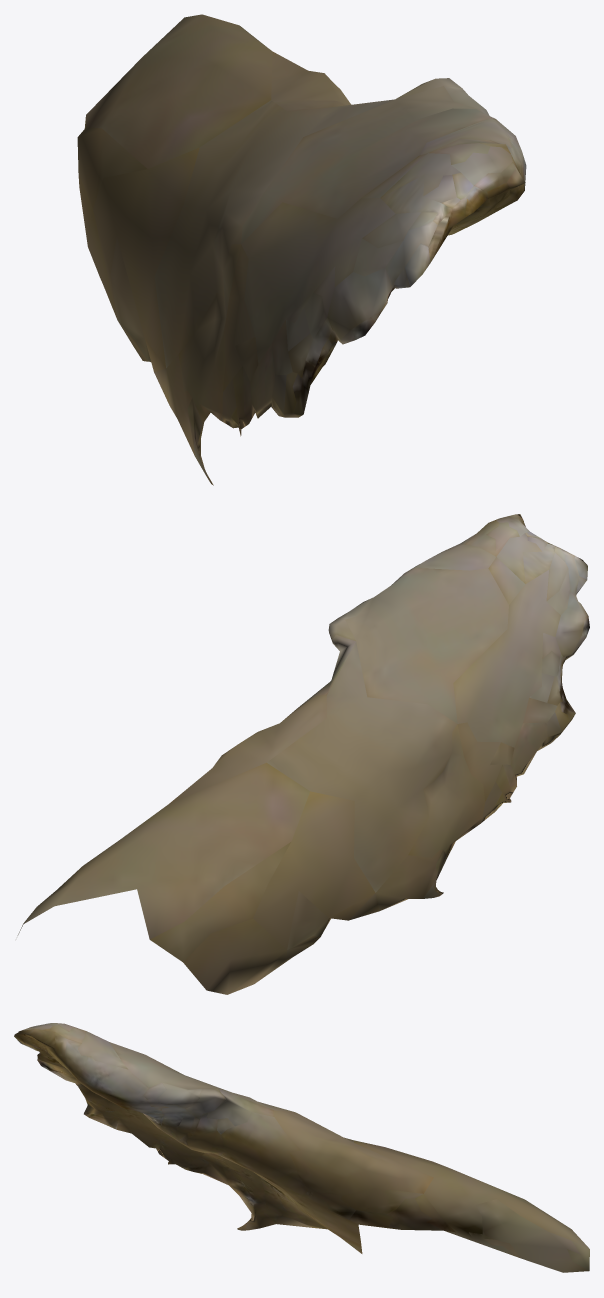
The model's file is hall.glb.
3 renders of one model, top to bottom at view 1: azimuth 30°, elevation 25°; view 2: azimuth 150°, elevation 25°; view 3: azimuth 270°, elevation 25°, orthographic. The views are drawn at different scales.
Bounding box in the file's own units: 0.204 × 0.2327 × 0.4874.
1 material, 1 textured.
